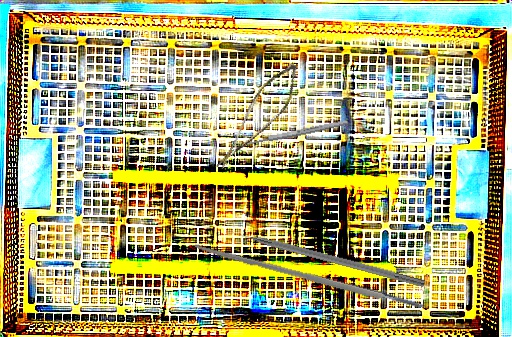Hook Surgical: (226, 224, 426, 288)
Micro Scissor: (215, 52, 305, 184)
Scalpel Handle: (192, 241, 425, 313)
Surgical Spoon: (234, 118, 349, 150)
